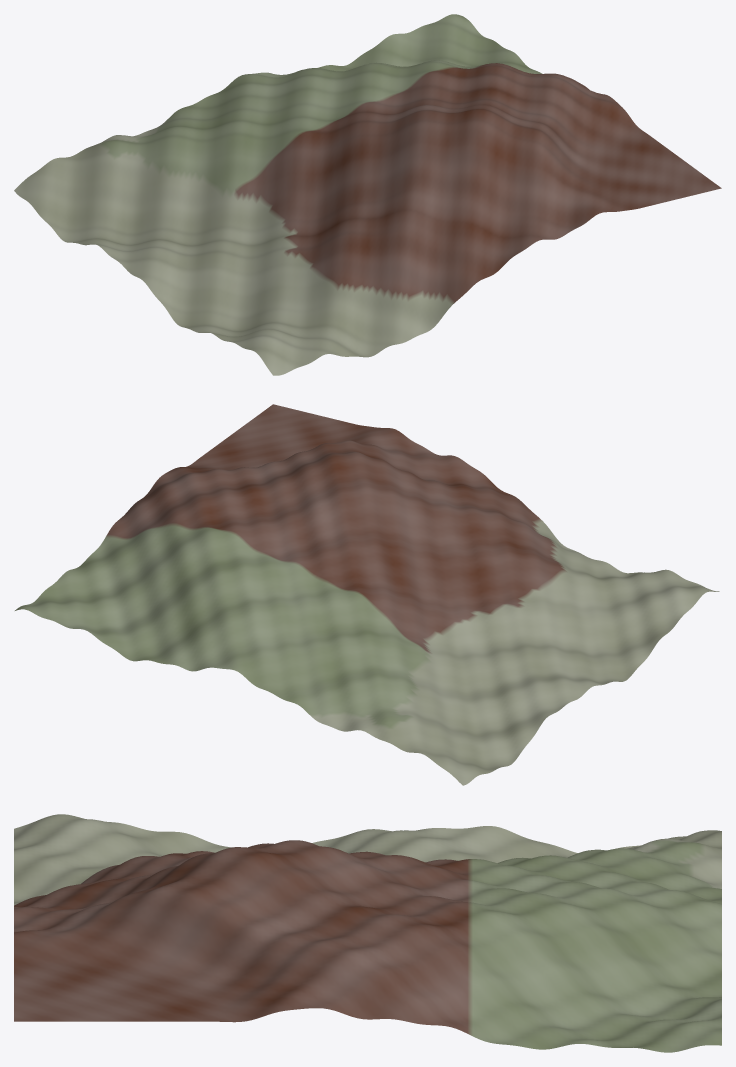
File: terrain_0_1.glb
3 renders of one model, top to bottom at view 1: azimuth 30°, elevation 25°; view 2: azimuth 150°, elevation 25°; view 3: azimuth 270°, elevation 25°, orthographic. The views are drawn at different scales.
Parts seen in each view (by area): view 1: terrain_0_1; view 2: terrain_0_1; view 3: terrain_0_1.
Part boxes in pixels (bbox=[...]): terrain_0_1: bbox=[14, 14, 721, 375]; terrain_0_1: bbox=[15, 404, 719, 785]; terrain_0_1: bbox=[14, 814, 721, 1052].
Bounding box in the file's own units: 512 × 159 × 512.
